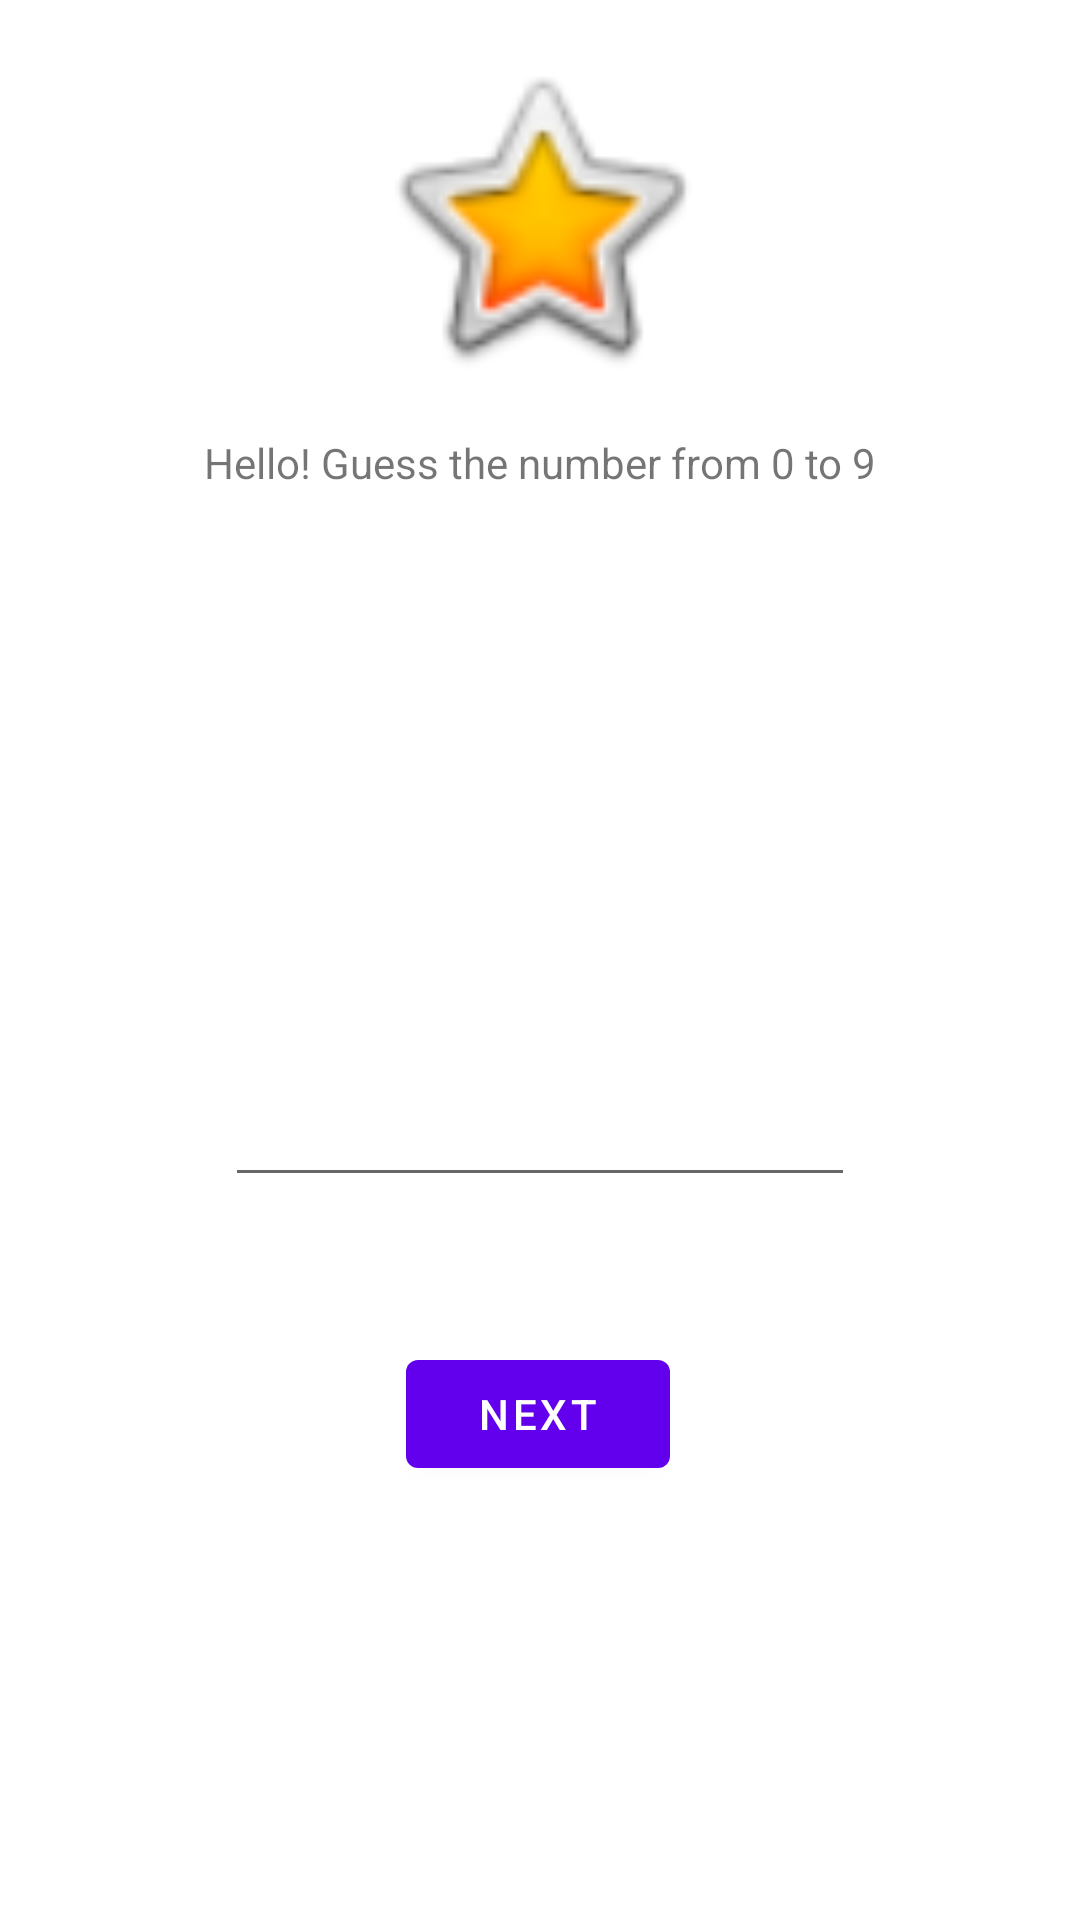

Icons on this 1080px x 1920px Android screen, each with its box as (x1, y1, x2, y2):
star on: (400, 80, 686, 359)
